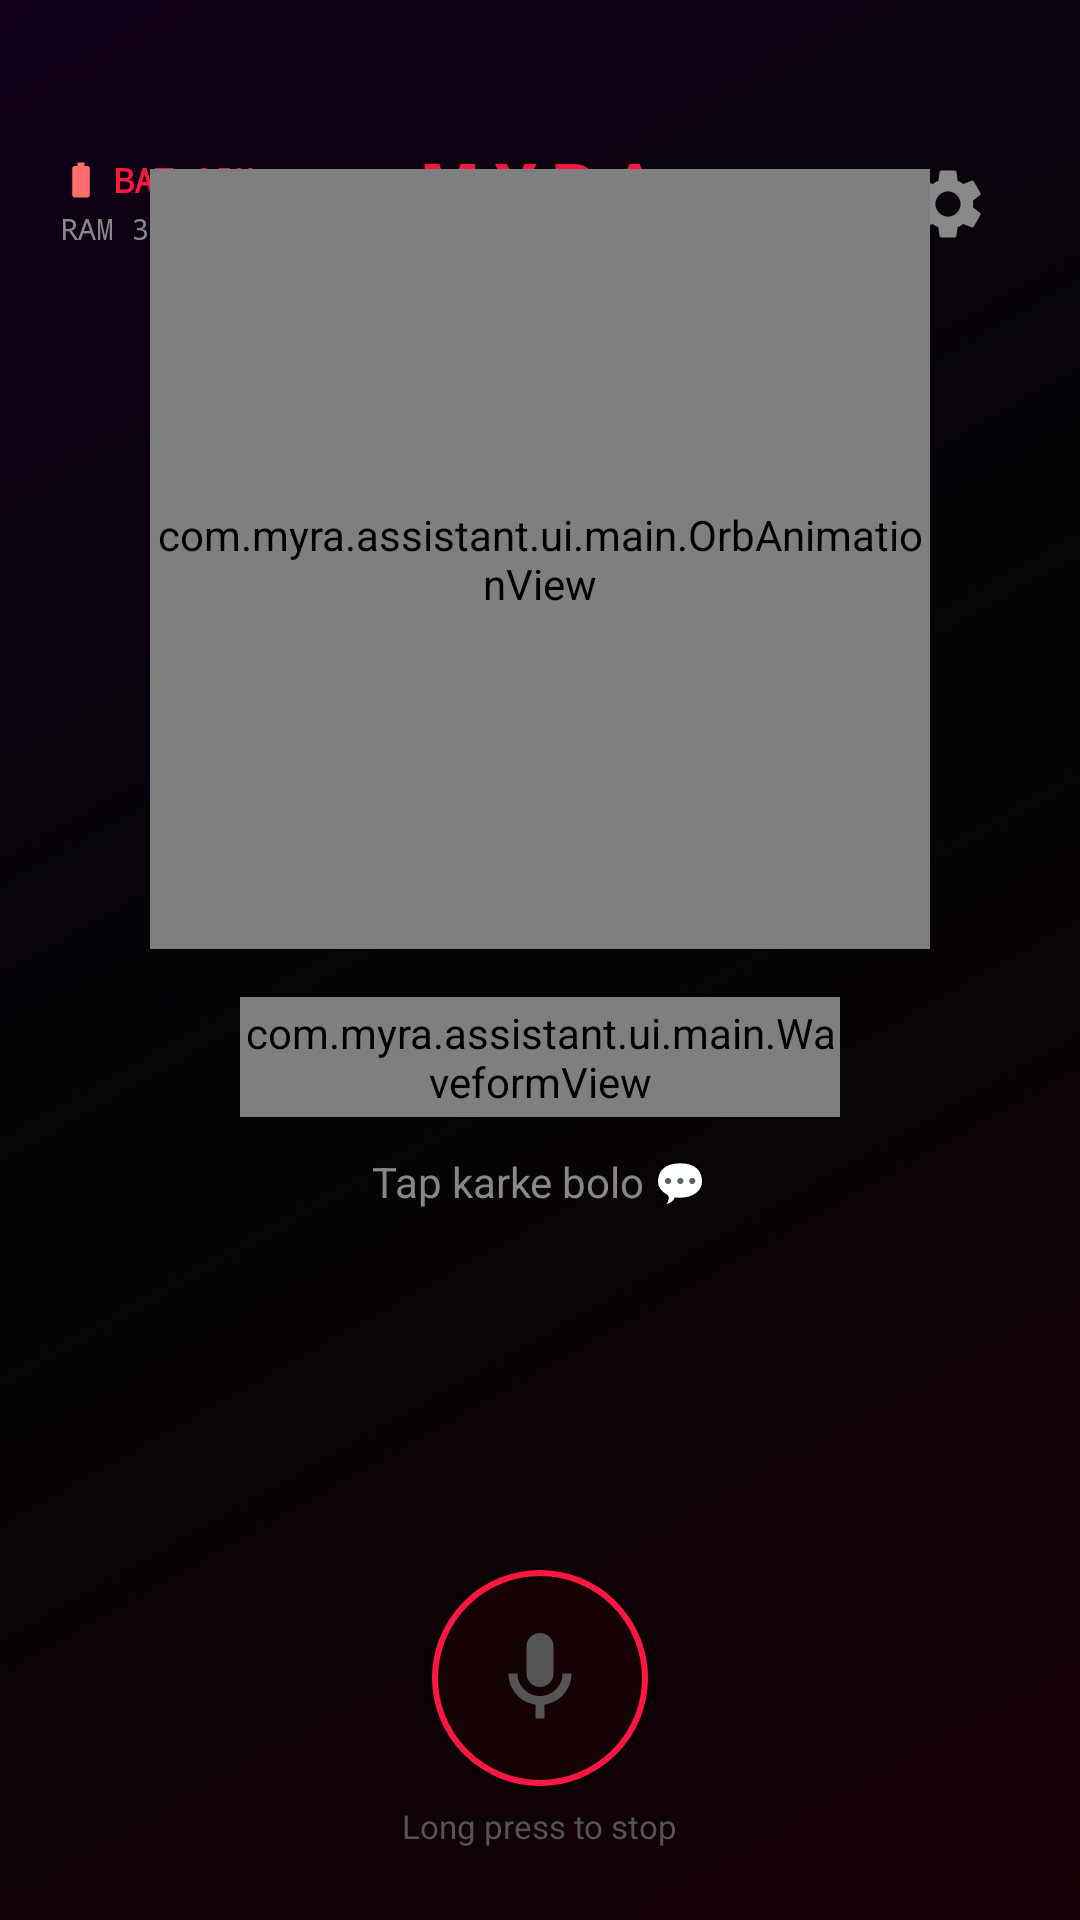

Screen size 1080 x 1920. Icon name, then its box in pixels as [x1,y1,x2,y2]:
Microphone: [432,1570,648,1786]
